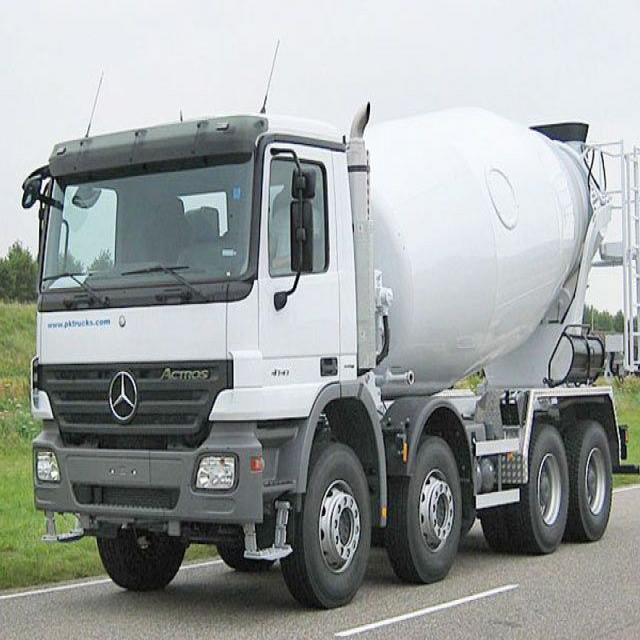Mixer Truck: (30, 104, 640, 607)
